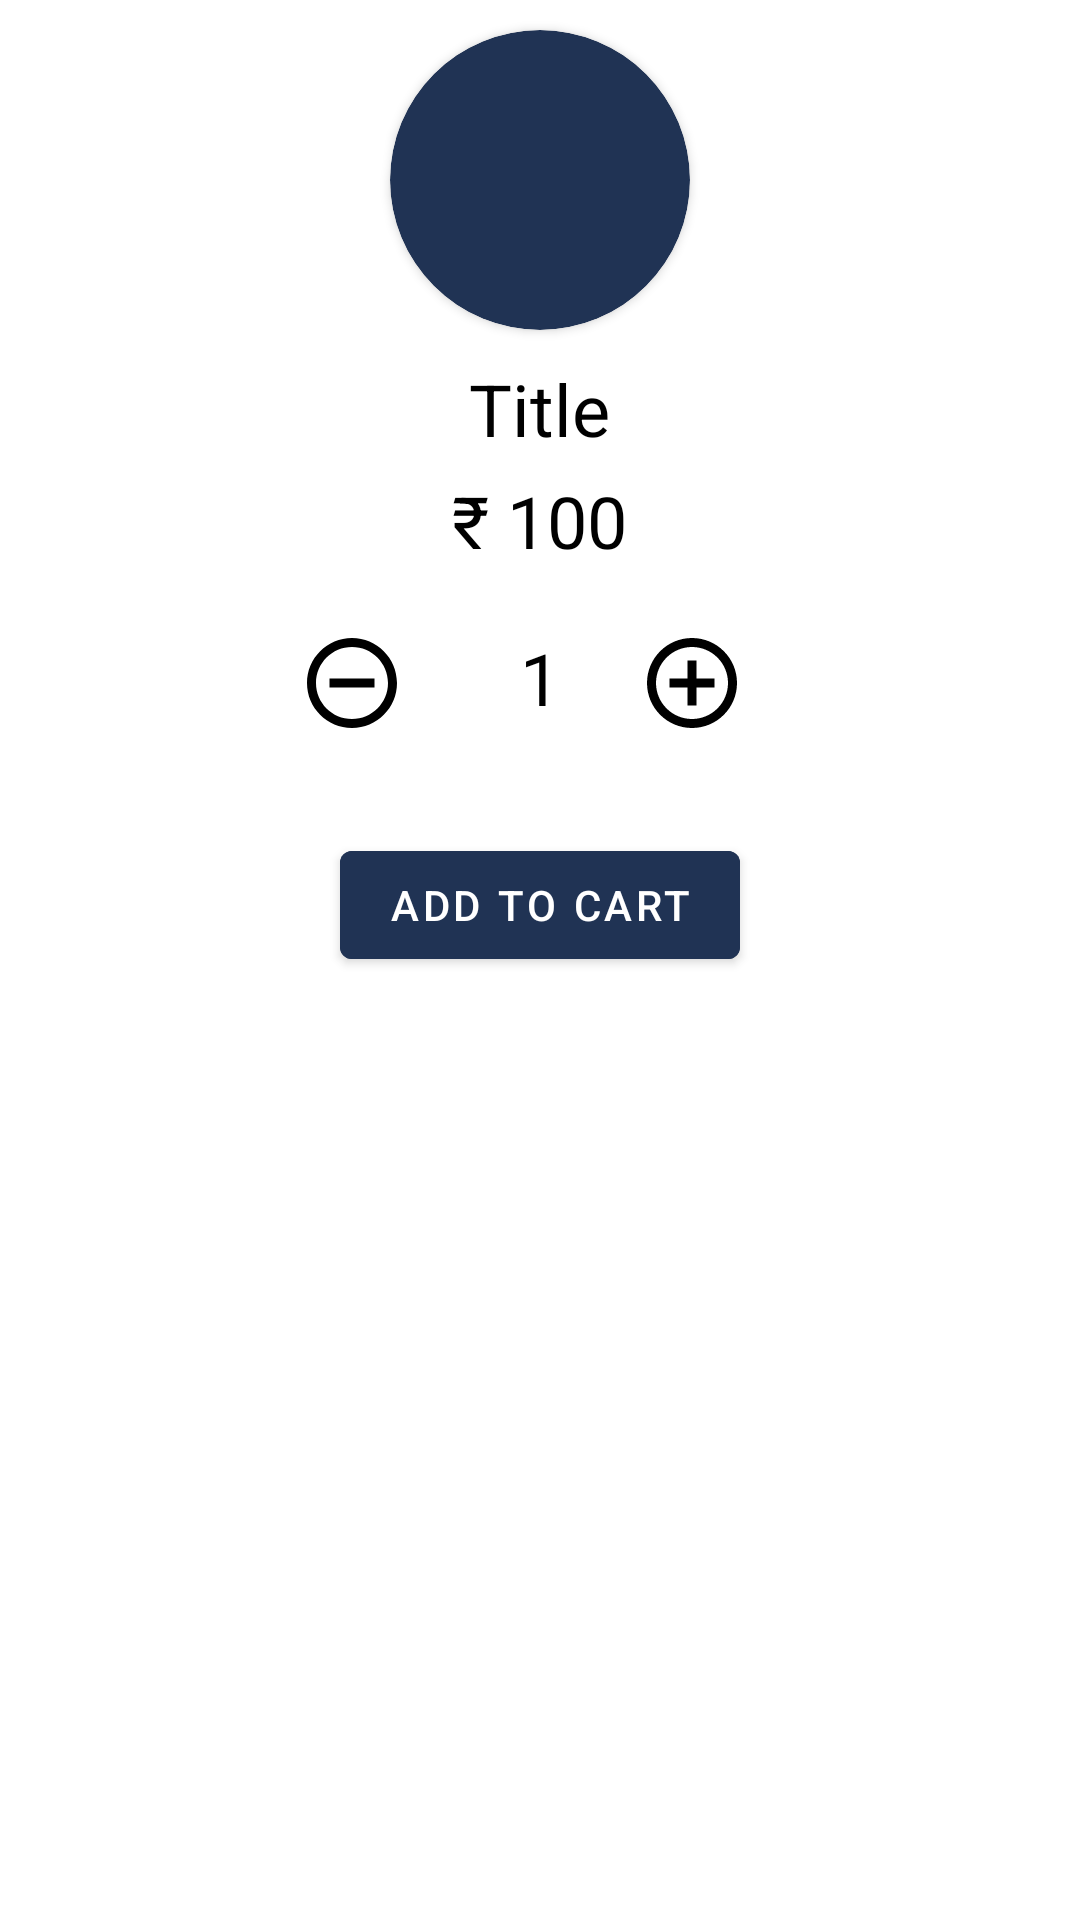

Icons on this 1080×1920 Android screen, each with its box as {"x1": x1, "y1": y1, "x2": x2, "y2": y2}:
remove circle: {"x1": 307, "y1": 638, "x2": 397, "y2": 728}
